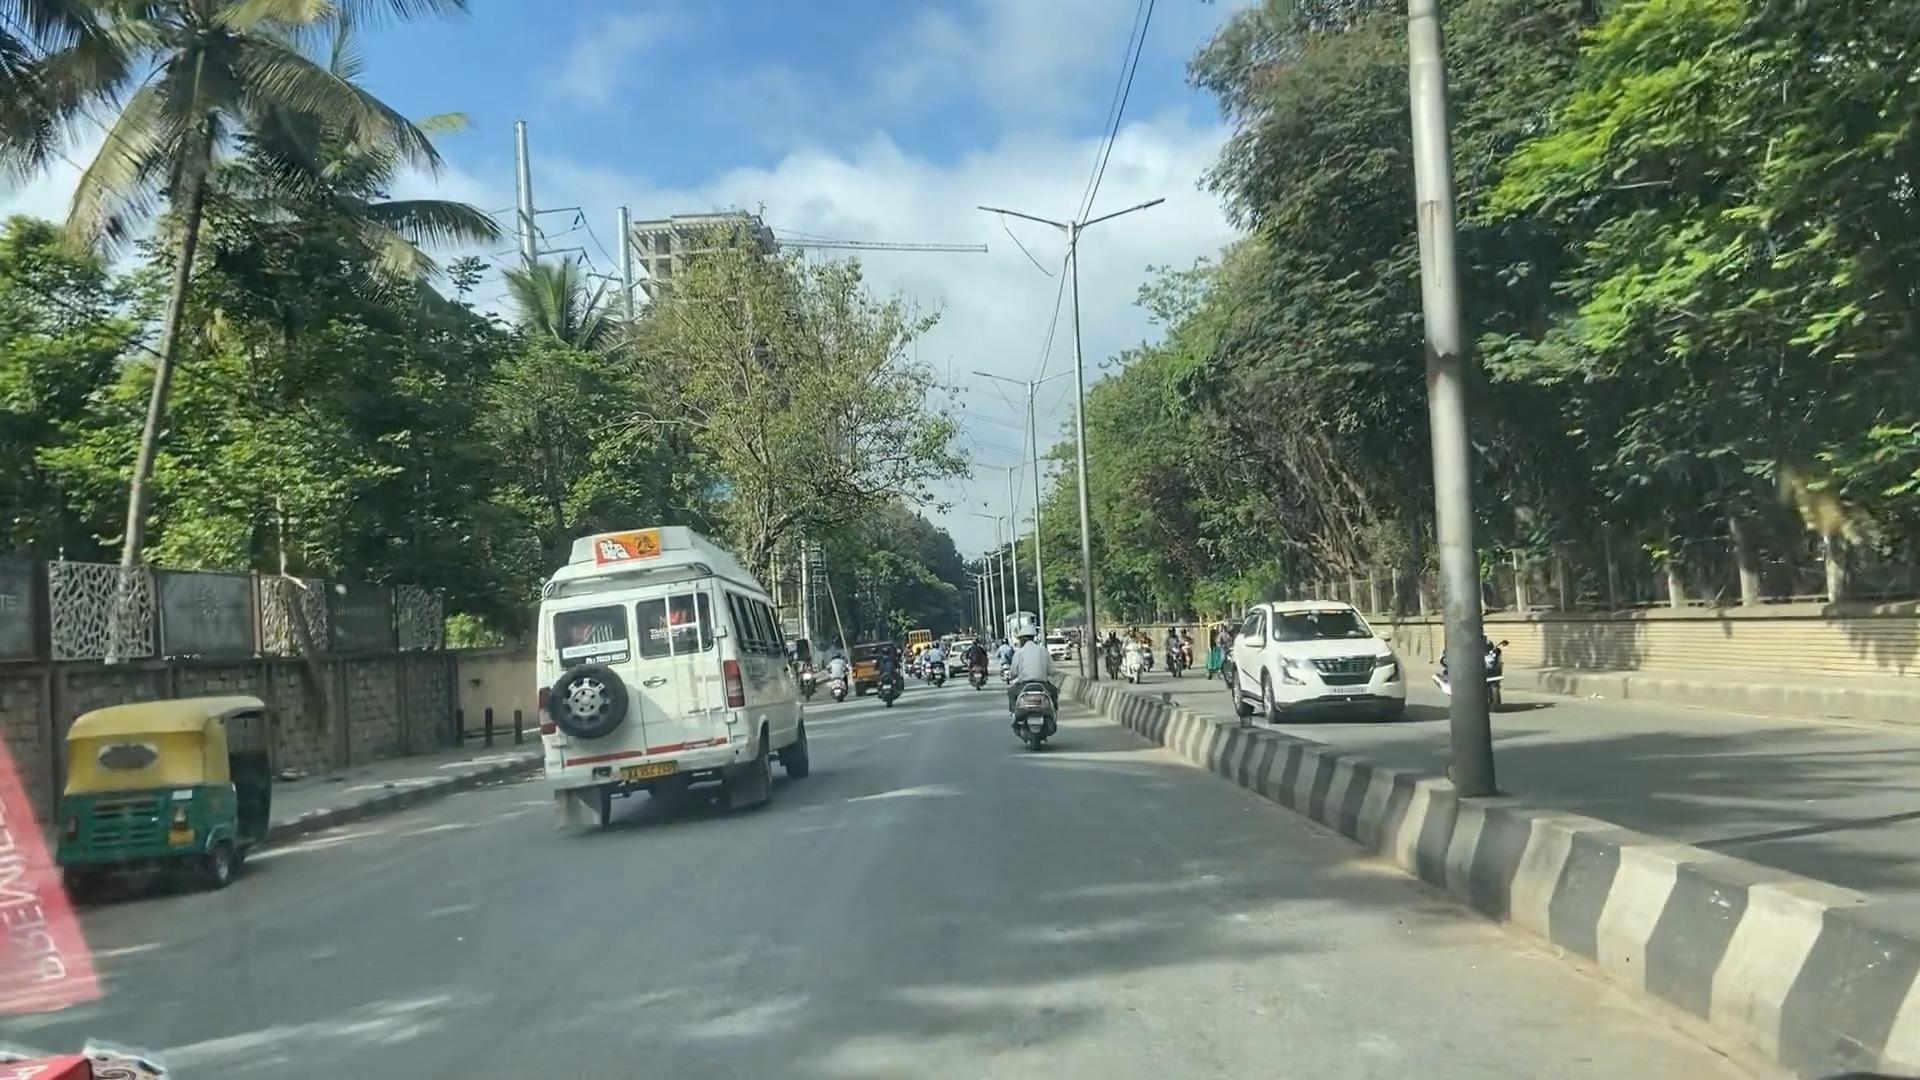HMV: (524, 521, 819, 823)
LMV: (66, 705, 280, 873)
